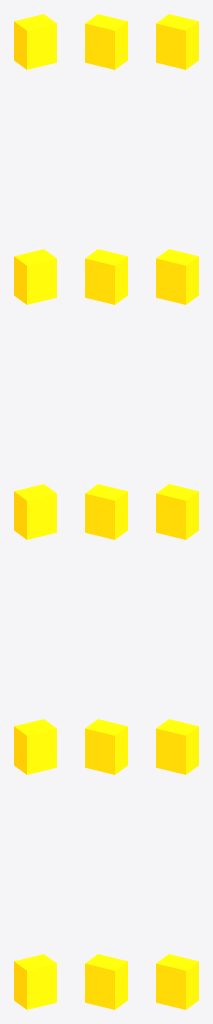
The model's file is EmergencyBag.fbx.
3 views of the same model, side by side, from view 1: azimuth 30°, elevation 25°; view 2: azimuth 150°, elevation 25°; view 3: azimuth 330°, elevation 25° (orthographic).
Visible parts, largest first — view 1: EQ_GoBag_F1, EQ_GoBag_F2, EQ_GoBag_F3, EQ_GoBag_F4, EQ_GoBag_F5; view 2: EQ_GoBag_F1, EQ_GoBag_F2, EQ_GoBag_F3, EQ_GoBag_F4, EQ_GoBag_F5; view 3: EQ_GoBag_F1, EQ_GoBag_F2, EQ_GoBag_F3, EQ_GoBag_F4, EQ_GoBag_F5.
Boxes of the visible parts, x1=… form: EQ_GoBag_F1: x1=14, y1=954, x2=56, y2=1009; EQ_GoBag_F2: x1=14, y1=719, x2=56, y2=774; EQ_GoBag_F3: x1=14, y1=484, x2=56, y2=539; EQ_GoBag_F4: x1=14, y1=249, x2=56, y2=304; EQ_GoBag_F5: x1=14, y1=14, x2=56, y2=69; EQ_GoBag_F1: x1=85, y1=954, x2=127, y2=1009; EQ_GoBag_F2: x1=85, y1=719, x2=127, y2=774; EQ_GoBag_F3: x1=85, y1=484, x2=127, y2=539; EQ_GoBag_F4: x1=85, y1=249, x2=127, y2=304; EQ_GoBag_F5: x1=85, y1=14, x2=127, y2=69; EQ_GoBag_F1: x1=156, y1=954, x2=198, y2=1009; EQ_GoBag_F2: x1=156, y1=719, x2=198, y2=774; EQ_GoBag_F3: x1=156, y1=484, x2=198, y2=539; EQ_GoBag_F4: x1=156, y1=249, x2=198, y2=304; EQ_GoBag_F5: x1=156, y1=14, x2=198, y2=69.
Size of the model in its own units: 0.4 by 12.5 by 0.3.
